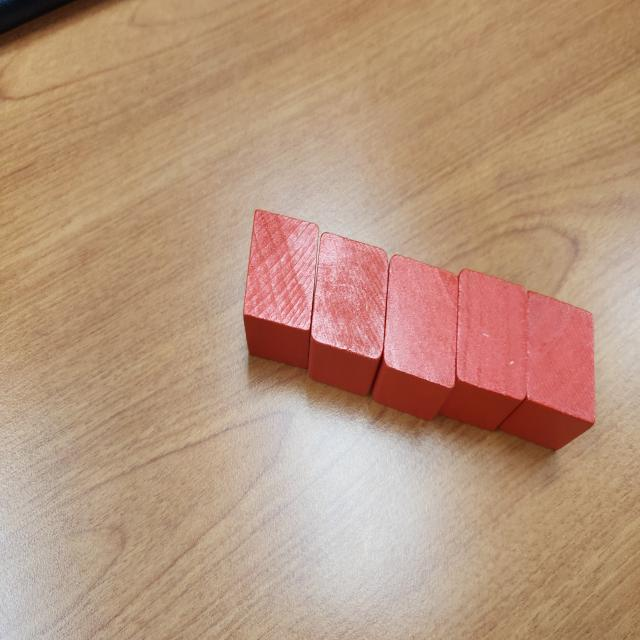red: (496, 289, 596, 452), (436, 267, 530, 434), (370, 252, 460, 422), (308, 232, 389, 398), (242, 208, 320, 369)
